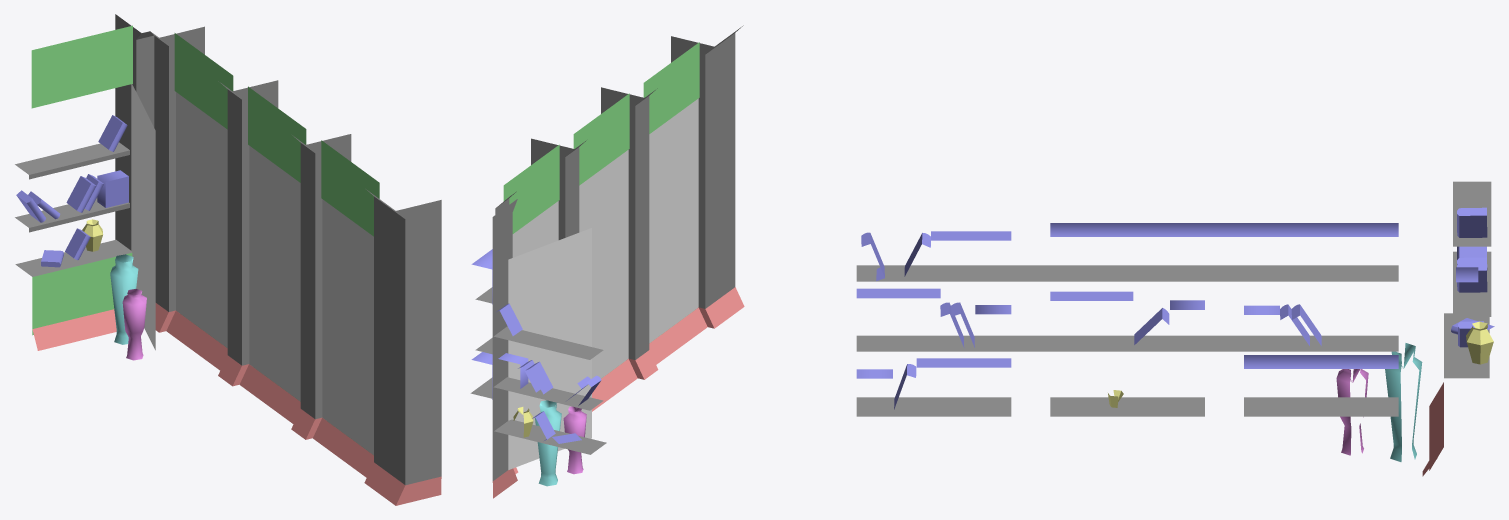
The model's file is interior_B_delf_store_04.gltf.
The picture shows the model from 3 angles, left to right: view 1: azimuth 30°, elevation 25°; view 2: azimuth 150°, elevation 25°; view 3: azimuth 270°, elevation 25°; orthographic projection. The views are drawn at different scales.
Parts seen in each view (by area): view 1: interior_B_delf_store_04; view 2: interior_B_delf_store_04; view 3: interior_B_delf_store_04.
Part boxes in pixels (bbox=[...]): interior_B_delf_store_04: bbox=[15, 14, 441, 505]; interior_B_delf_store_04: bbox=[470, 25, 744, 498]; interior_B_delf_store_04: bbox=[856, 181, 1494, 476].
Size of the model in its own units: 0.8981 by 1.59 by 2.65.
